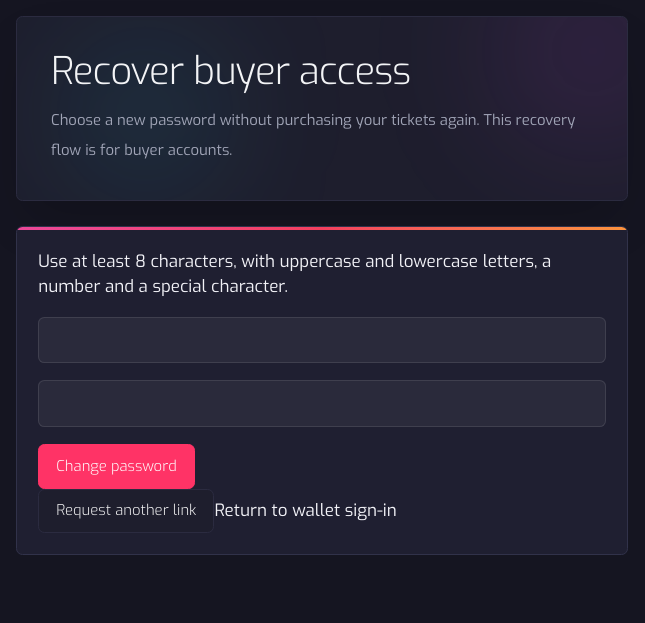
Scenario: Buyer password recovery › a transport or malformed success never claims a password change and never echoes raw response errors
Type "Synthetic-New1!" into the password field named "New password". click: (322, 340)
box: [38,316,606,363]
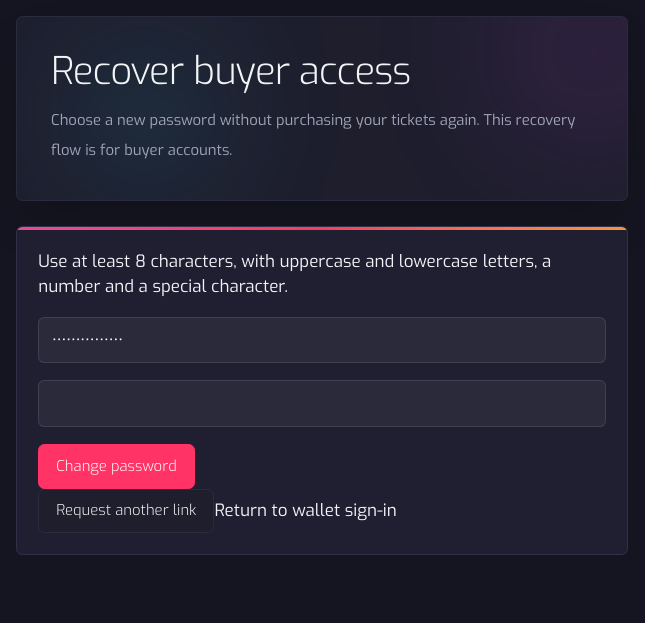
Type "Synthetic-New1!" into the password field named "Confirm new password". click: (322, 404)
box: [38,380,606,427]
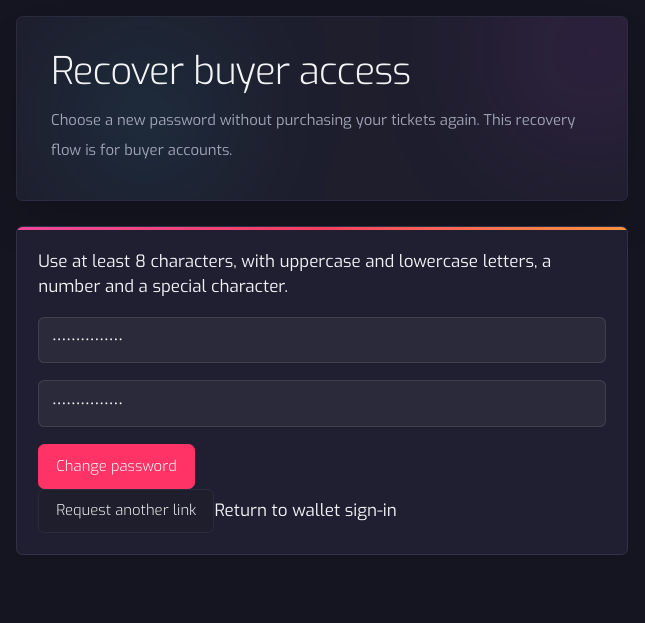
Click the button "Change password". click: click(117, 466)
box: [38,444,195,488]
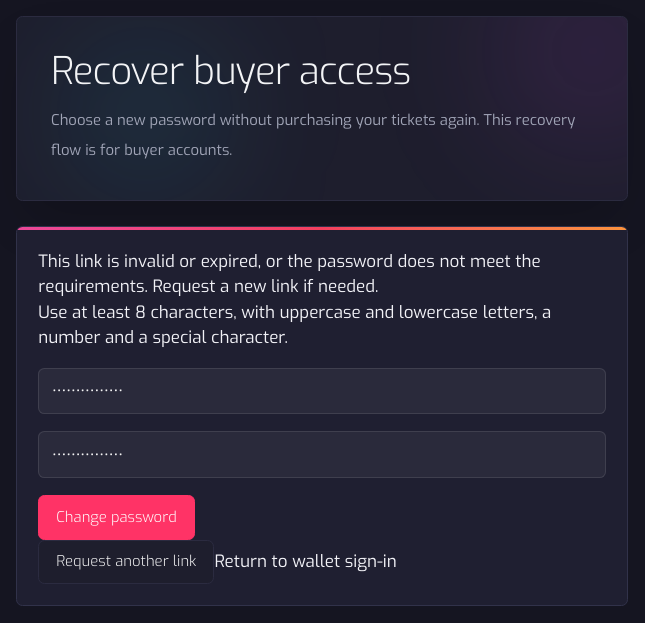
Expected: the message is shown, [38,248,606,300]
